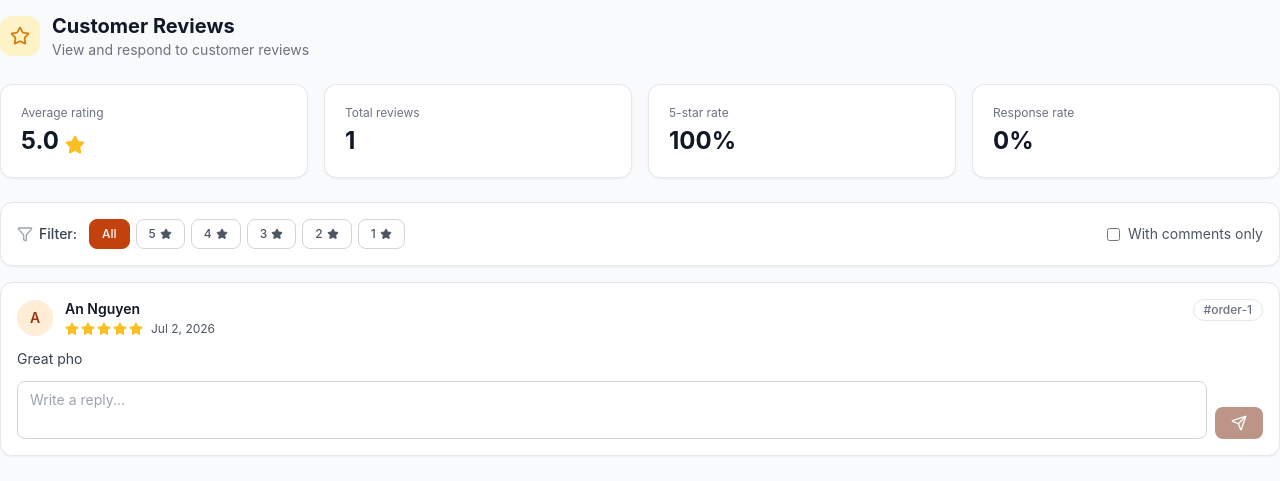
Test: ReviewsDashboard › posts a merchant reply and renders the updated review without static fallback data
expect the text "An Nguyen" is shown: met, box [65,300,140,317]
Type "Thanks for visiting!" into the text box with placeholder "Write a reply...".
click(612, 410); type("Thanks for visiting!")  # box [17,381,1207,439]
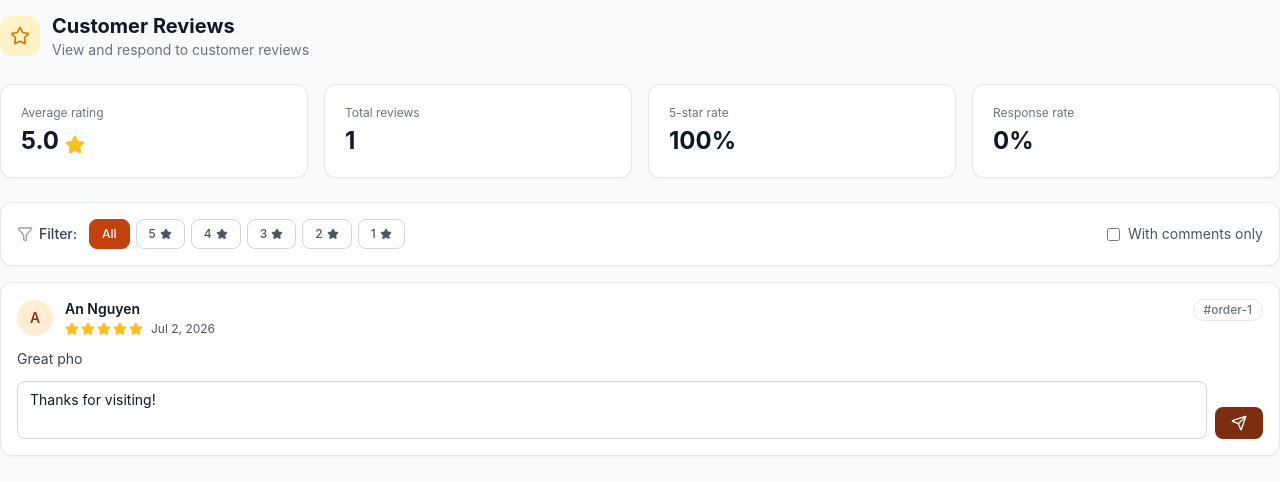
Click the button named "Send review reply".
click(1239, 423)  # box [1215,407,1263,439]
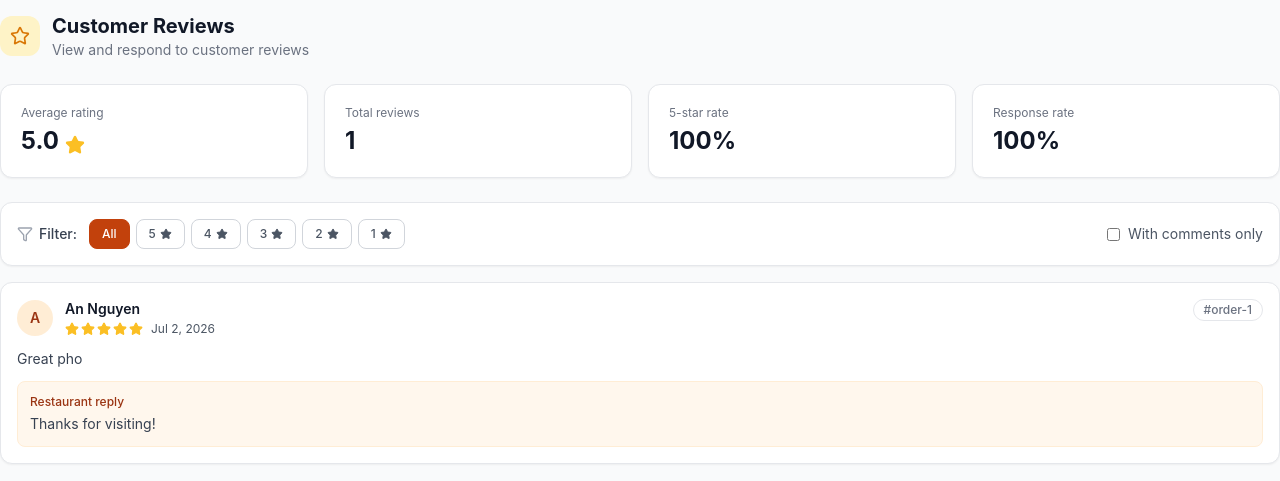
expect the text "Thanks for visiting!" is shown: met, box [30,415,156,432]
